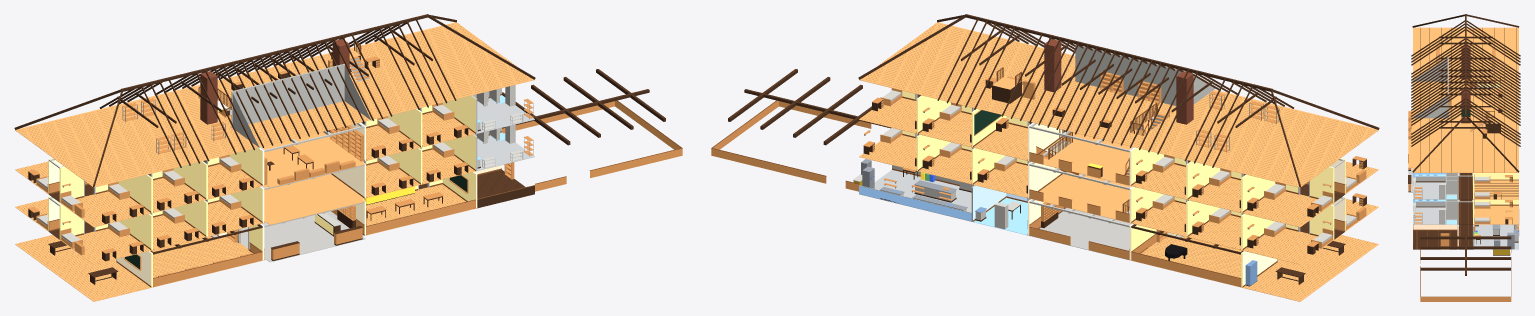
File: SM_Ra_Interior.fbx
3 renders of one model, left to right at view 1: azimuth 30°, elevation 25°; view 2: azimuth 150°, elevation 25°; view 3: azimuth 270°, elevation 25°, orthographic. The views are drawn at different scales.
Visible parts, largest first — view 1: SM_Ra_Interior; view 2: SM_Ra_Interior; view 3: SM_Ra_Interior.
Part boxes in pixels (left/top/right/bottom): SM_Ra_Interior: left=14, top=14, right=682, bottom=301; SM_Ra_Interior: left=711, top=14, right=1379, bottom=301; SM_Ra_Interior: left=1408, top=14, right=1520, bottom=301.
Size of the model in its own units: 58.52 by 16 by 14.25.
